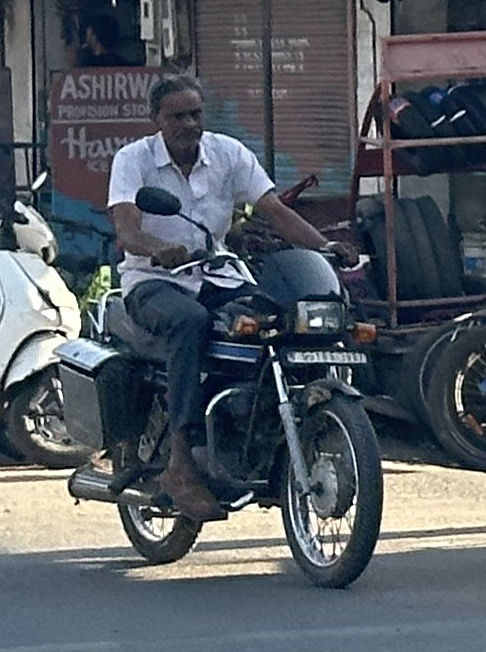BikeWithRider: (48, 71, 386, 591)
NoHelmet: (144, 72, 215, 152)
